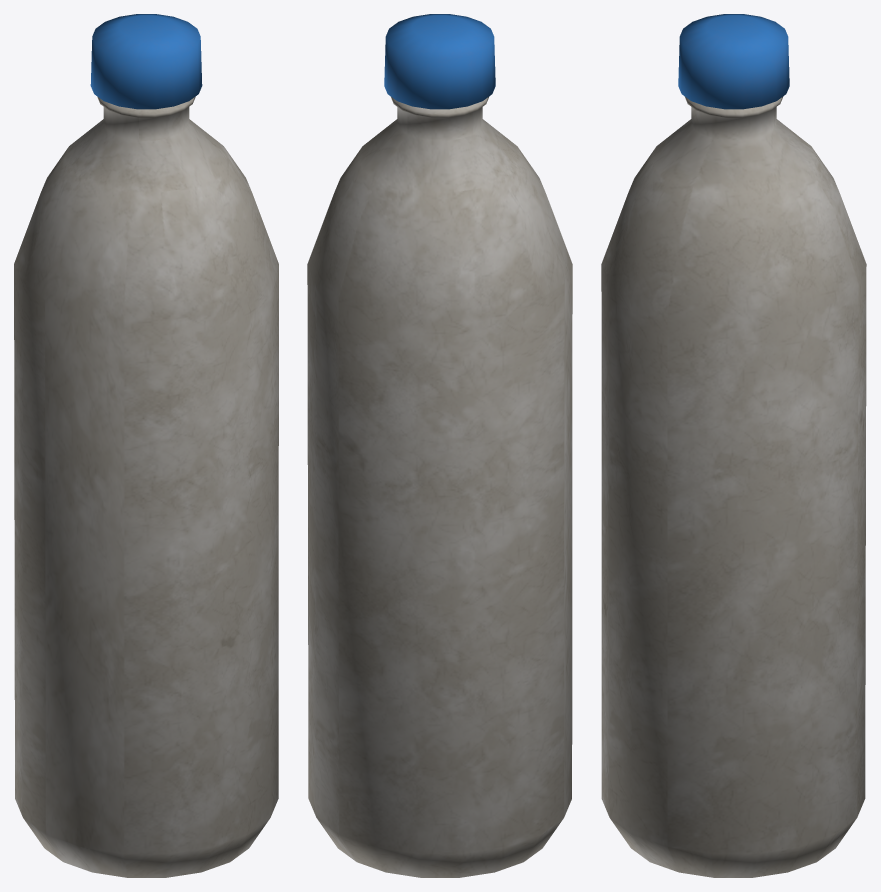
File: WaterBottle.fbx
3 views of the same model, side by side, from view 1: azimuth 30°, elevation 25°; view 2: azimuth 150°, elevation 25°; view 3: azimuth 270°, elevation 25° (orthographic).
Parts seen in each view (by area): view 1: Bottle, Cover; view 2: Bottle, Cover; view 3: Bottle, Cover.
Part boxes in pixels (x1,y1,x2,y2): Bottle: [14, 96, 278, 877]; Cover: [90, 14, 202, 109]; Bottle: [307, 97, 572, 877]; Cover: [384, 14, 495, 109]; Bottle: [601, 96, 866, 877]; Cover: [678, 14, 789, 109].
Bounding box in the file's own units: 125 × 428 × 128.
